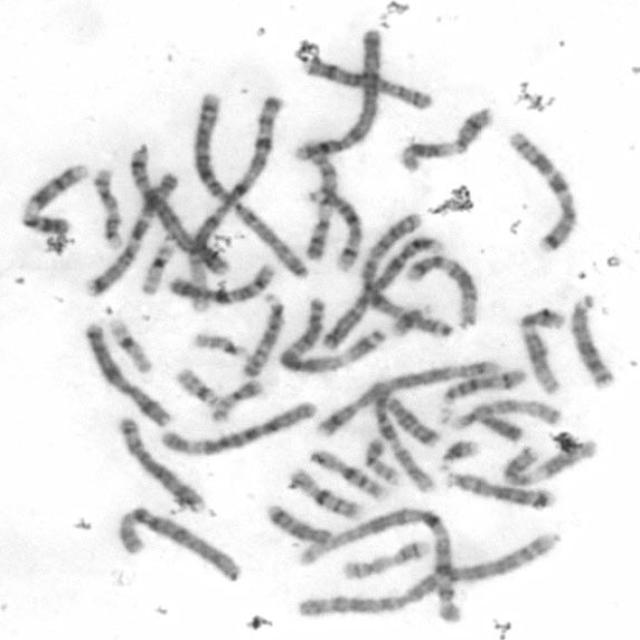A1: (185, 89, 302, 286), (293, 500, 464, 628)
A2: (290, 528, 565, 620), (186, 90, 309, 281)
A3: (356, 209, 454, 340), (276, 290, 390, 374)
B4: (316, 220, 438, 353), (290, 19, 386, 164)
B5: (305, 352, 507, 438), (123, 138, 235, 277)
C10: (368, 382, 439, 494), (164, 256, 278, 304)
C11: (392, 99, 498, 173), (496, 436, 598, 488)
C12: (401, 250, 480, 330), (514, 303, 568, 396)
C6: (112, 501, 244, 584), (154, 394, 319, 458)
C7: (80, 164, 180, 298), (502, 125, 583, 255)
C8: (113, 411, 207, 512), (297, 51, 435, 112)
C9: (16, 156, 93, 237), (299, 144, 341, 262)
D13: (564, 288, 618, 390), (440, 464, 557, 511)
D14: (302, 184, 366, 275), (438, 363, 528, 406)
D15: (236, 290, 288, 380), (446, 393, 565, 430)
E16: (306, 444, 392, 501), (283, 462, 366, 520)
E17: (336, 536, 430, 582), (88, 162, 125, 250)
E18: (369, 391, 443, 450), (260, 498, 332, 547)
F19: (102, 310, 154, 374), (134, 232, 180, 296)
F20: (205, 372, 267, 424), (360, 434, 403, 486)
G21: (431, 432, 481, 473), (387, 298, 434, 338)
G22: (169, 363, 220, 405), (187, 328, 249, 359)
X: (78, 315, 176, 427)
Y: (473, 408, 524, 444)
